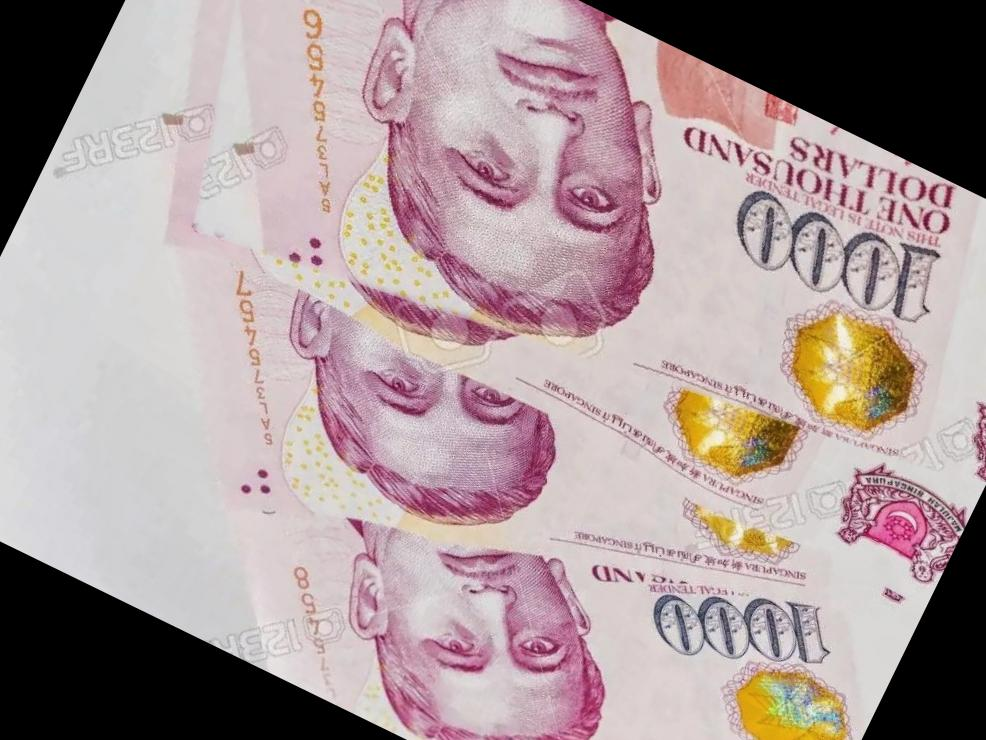1000SingaporeDollar: (99, 0, 986, 590)
